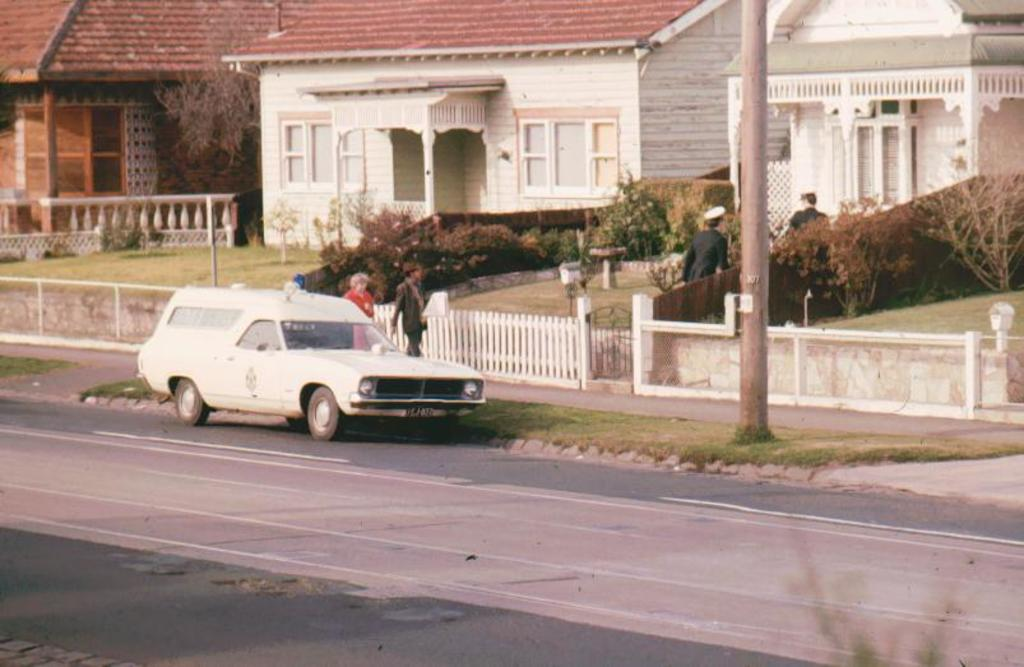Car: (151, 279, 490, 439)
